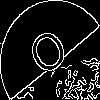O: (25, 25, 76, 86)
